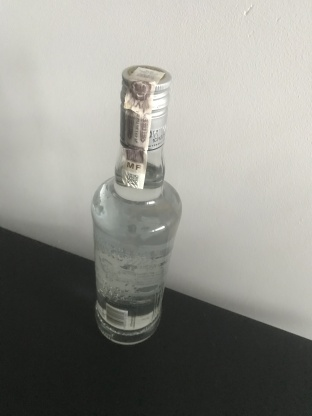nakretka: (118, 63, 173, 152)
